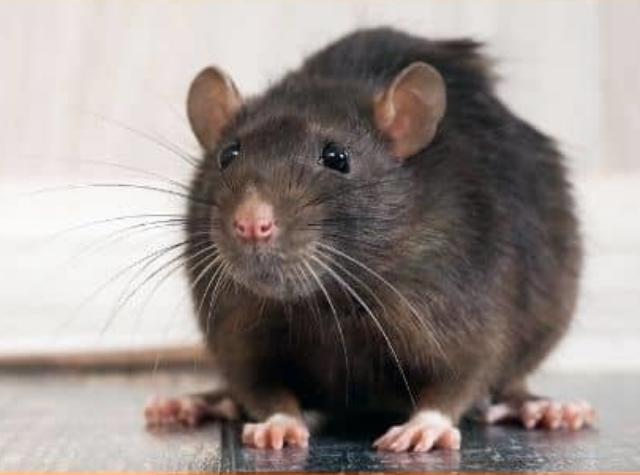rat: (118, 18, 608, 466)
